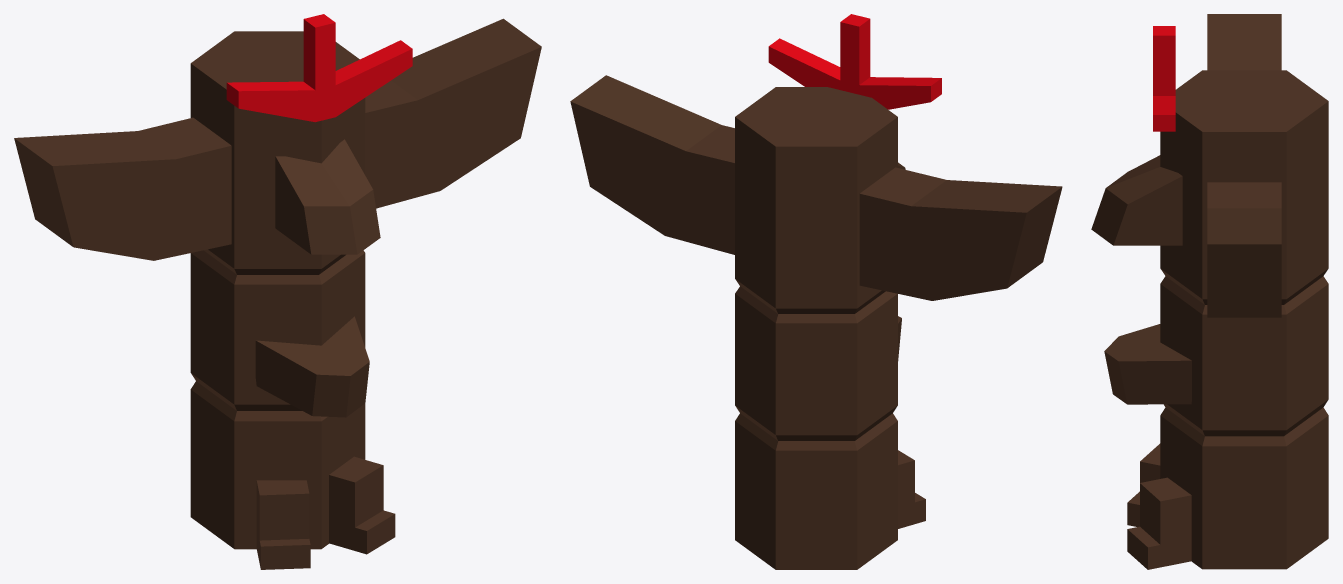
File: Totem_teir2.fbx
3 views of the same model, side by side, from view 1: azimuth 30°, elevation 25°; view 2: azimuth 150°, elevation 25°; view 3: azimuth 270°, elevation 25° (orthographic). The views are drawn at different scales.
Parts seen in each view (by area): view 1: Cylinder.004; view 2: Cylinder.004; view 3: Cylinder.004.
Boxes of the visible parts, x1,y1,x2,y2 form: Cylinder.004: (14, 14, 541, 569); Cylinder.004: (570, 14, 1062, 569); Cylinder.004: (1091, 14, 1328, 569).
Size of the model in its own units: 375 by 385 by 163.
